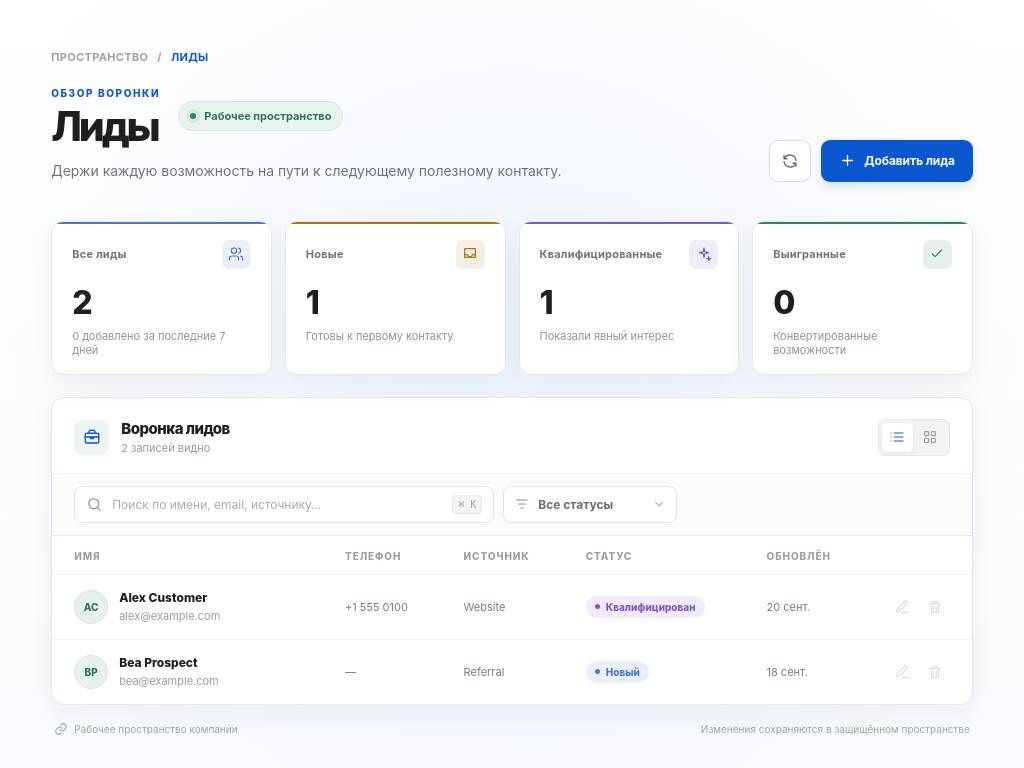
it: LeadsPage › switches to card view
This screenshot has width=1024, height=768.
Expected: the text "Alex Customer" is shown, [119, 590, 220, 605]
Click the button named "карточки".
click(930, 437)  # box [915, 423, 946, 452]
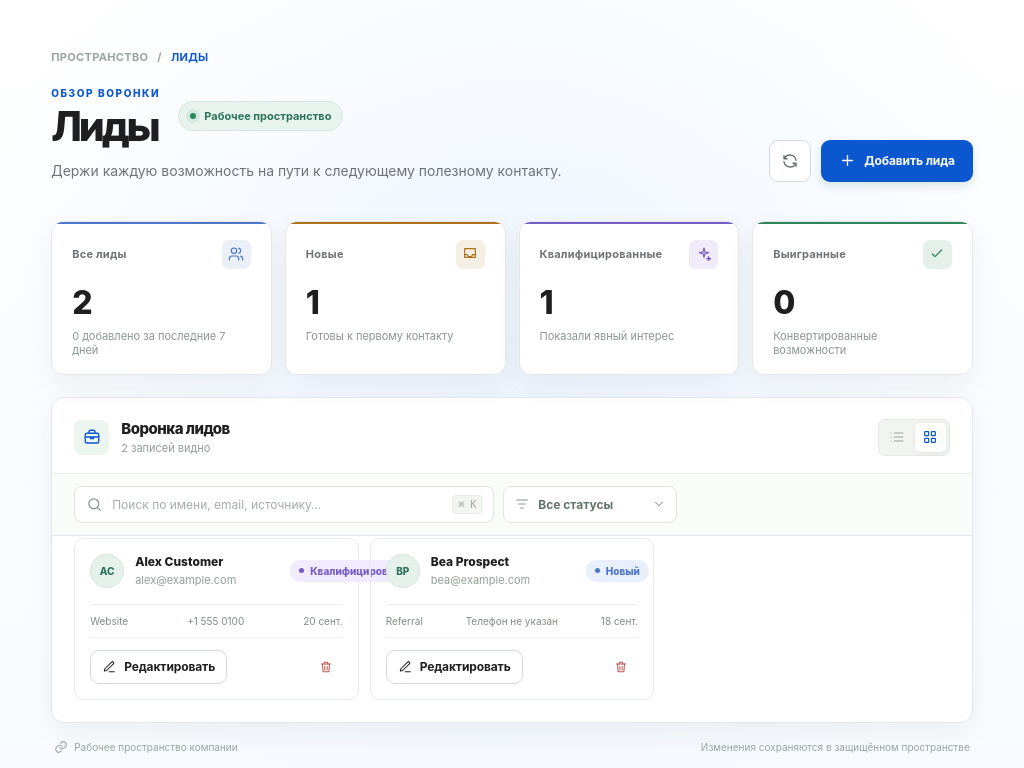
Now the button with aria-label "редактировать alex customer" is shown, box [90, 650, 227, 684]
Now the table is gone
